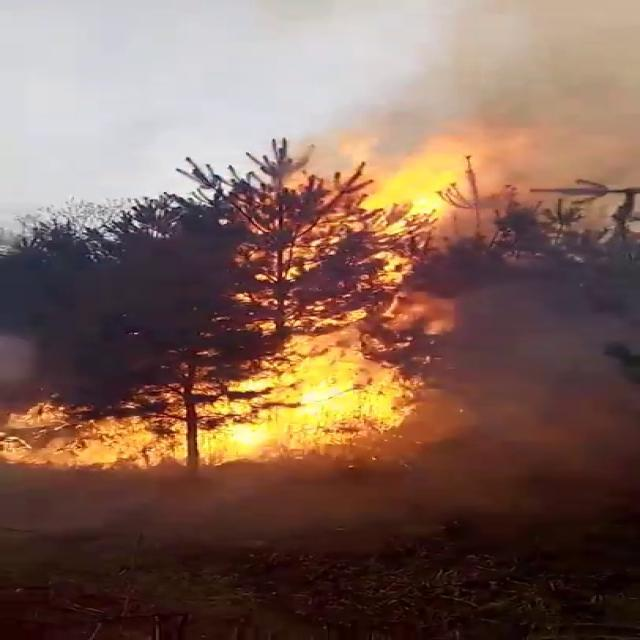Fire: (8, 126, 604, 492)
Smoke: (236, 0, 640, 163)
